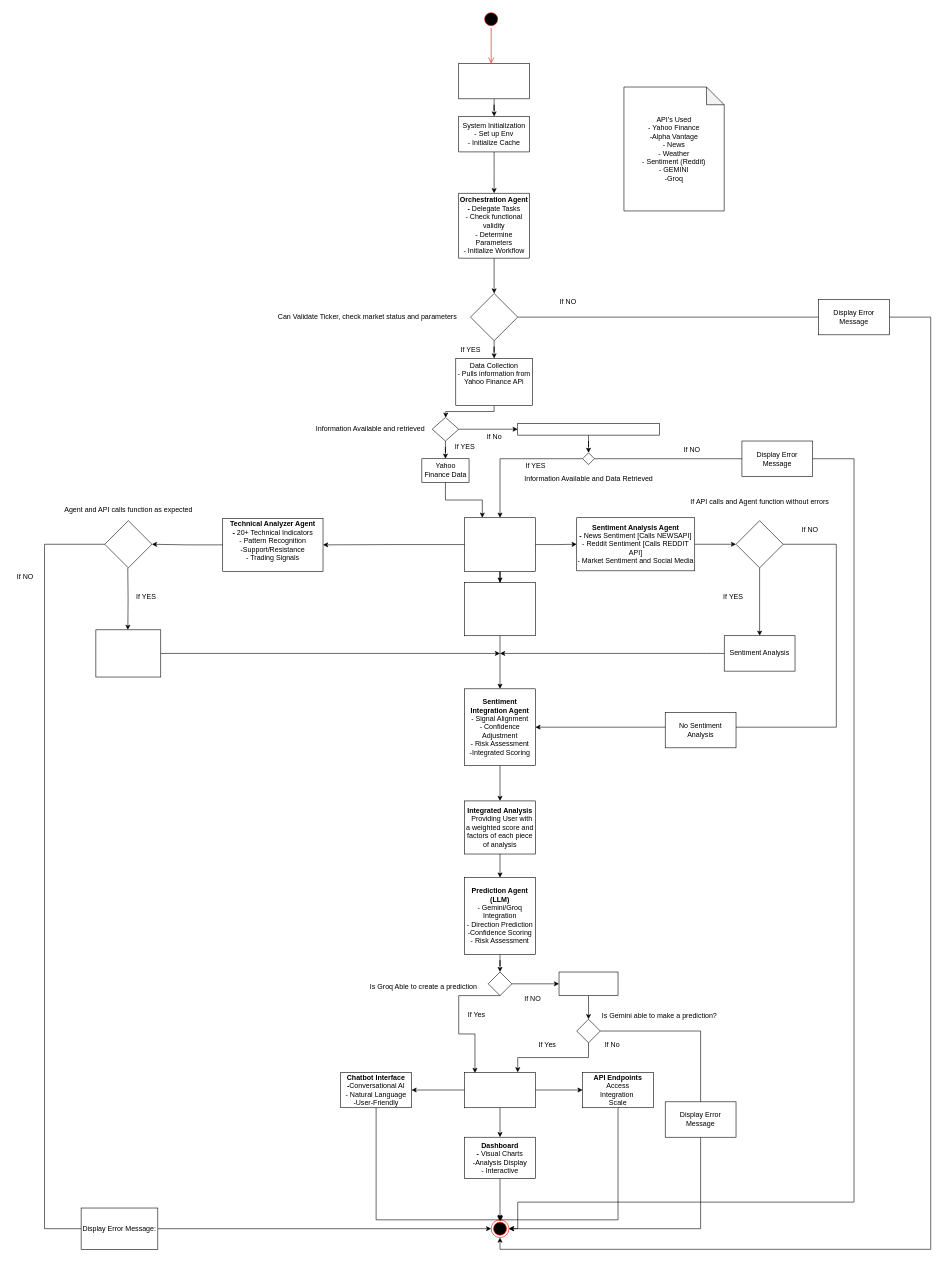
Image size: 946x1264. Some labels were removed from this diagram. Each missing label, with the box of its shape:
Data Analyst Agent - Provides Historical Data - Patterns - Data Quality: (464, 517, 535, 571)
Fallback to AlphaVantage API: (517, 423, 659, 435)
Fallback to GEMINI API: (558, 971, 618, 996)
Final Prediction: (464, 1072, 535, 1108)
Structured Data Package: (464, 582, 535, 636)
Technical Analysis: (95, 629, 161, 677)
User Inputs Ticker: (458, 63, 530, 99)
